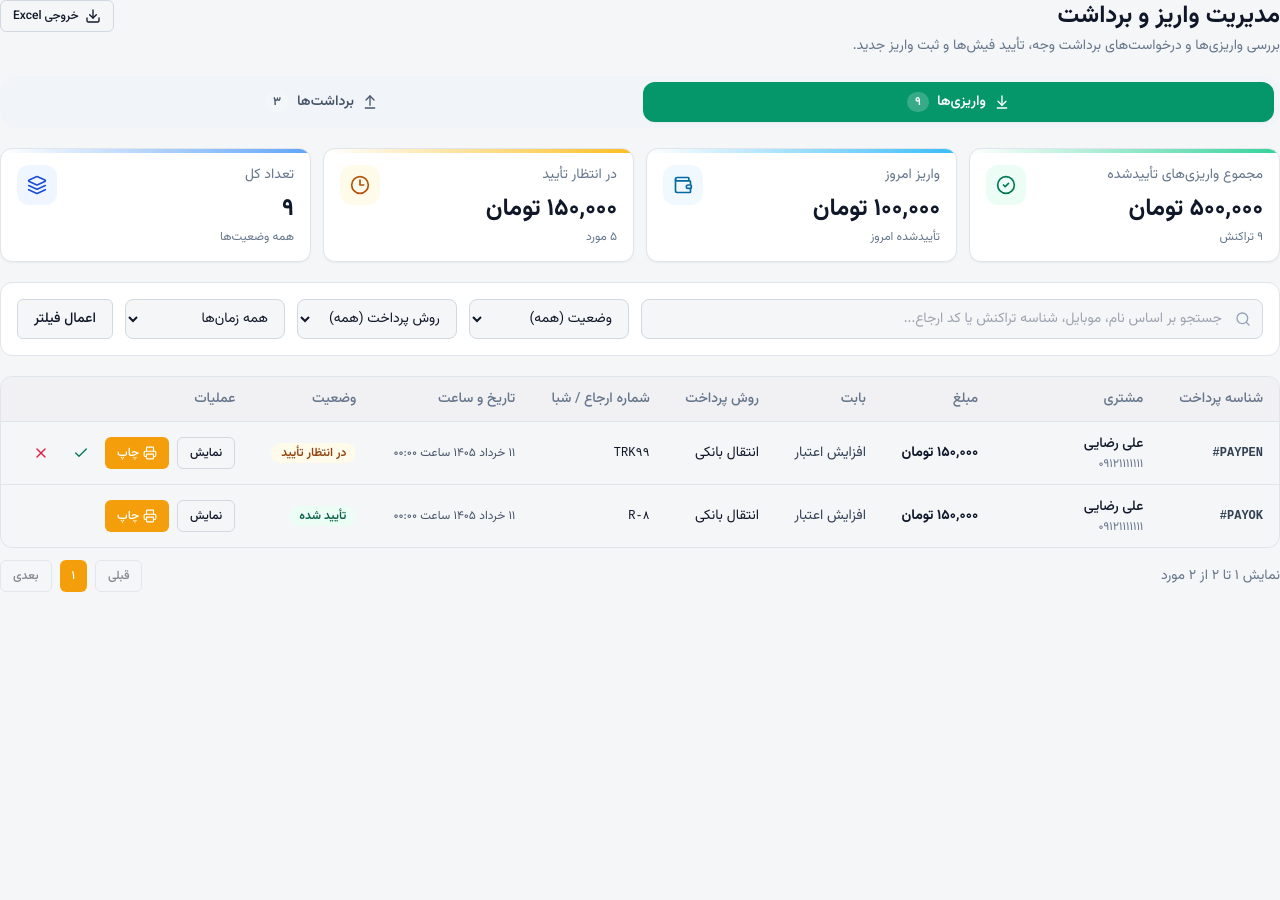
Test: PaymentsManagementPage › opens the withdrawal detail modal showing the destination account
This screenshot has width=1280, height=900.
Click the button "برداشت‌ها ۳". click: coordinates (322, 102)
box: [6,82,637,122]
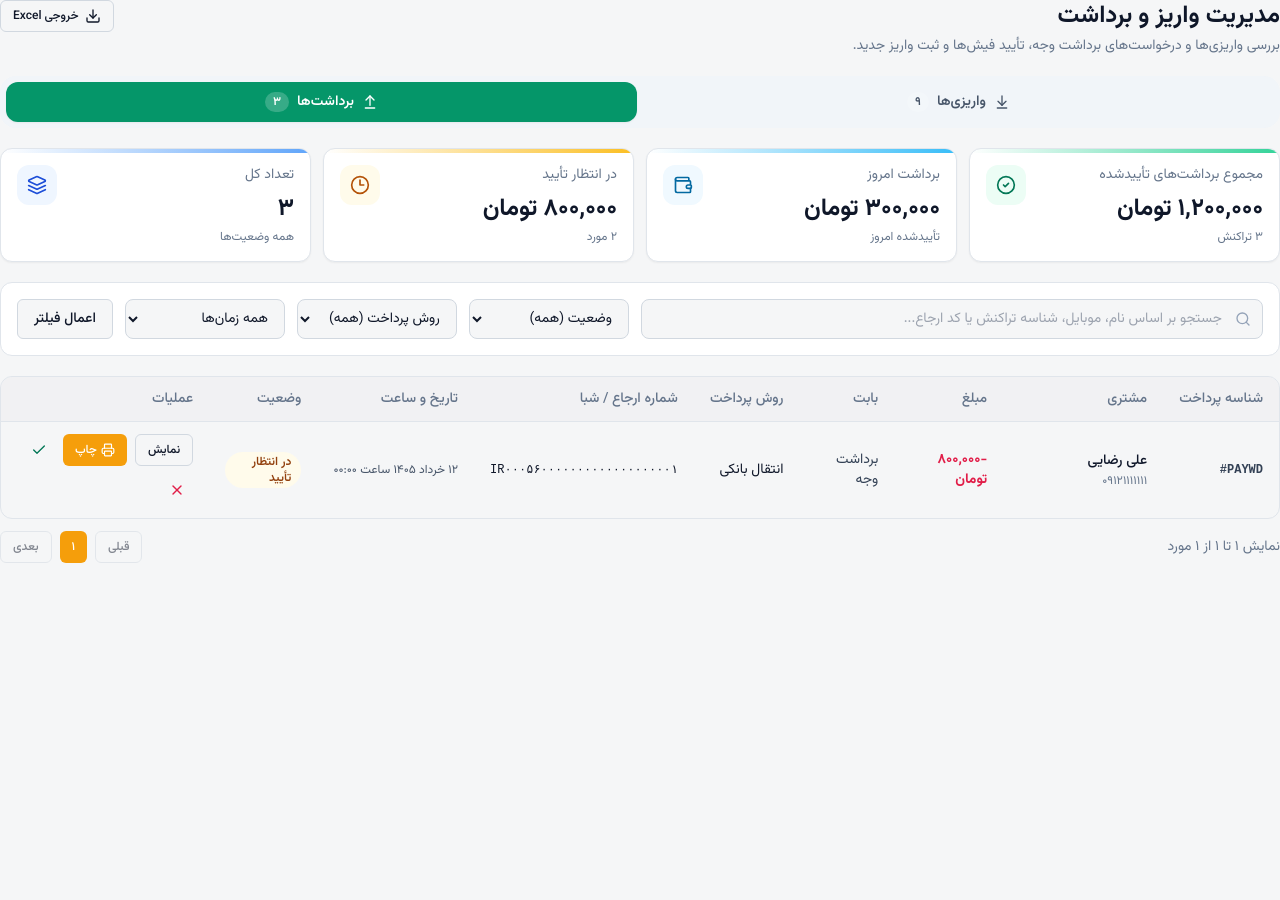
Click the button with aria-label "مشاهده پرداخت". click: coordinates (164, 450)
box: [135,434,193,466]
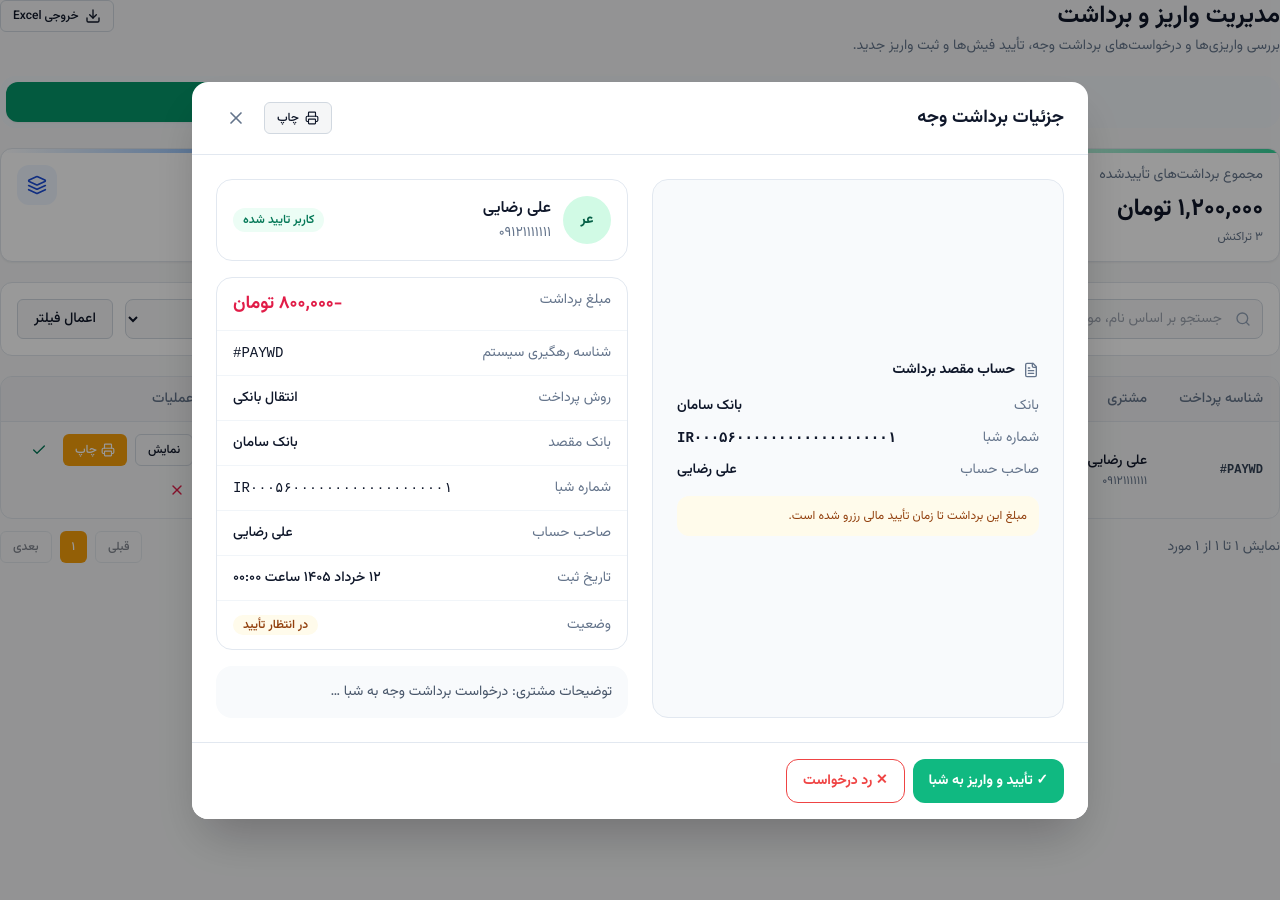
Check: the dialog "جزئیات برداشت وجه" is shown, box [192,82,1088,818]
Check: the text "بانک سامان" below "حساب مقصد برداشت" is shown, box [677,395,742,417]
Check: the text "مبلغ این برداشت تا زمان تأیید مالی رزرو شده است." is shown, box [677,496,1039,536]
